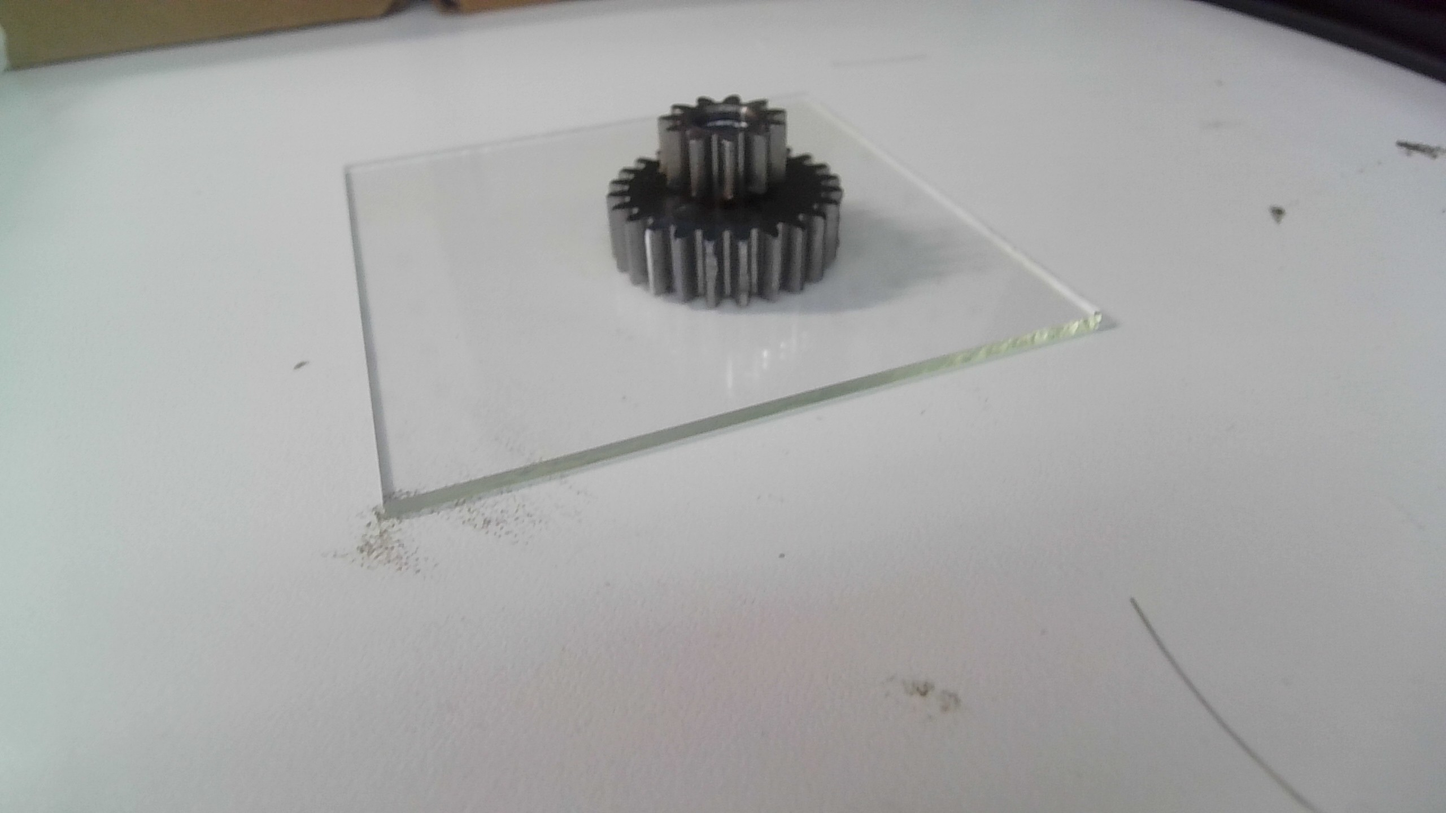gear: (599, 90, 846, 312)
